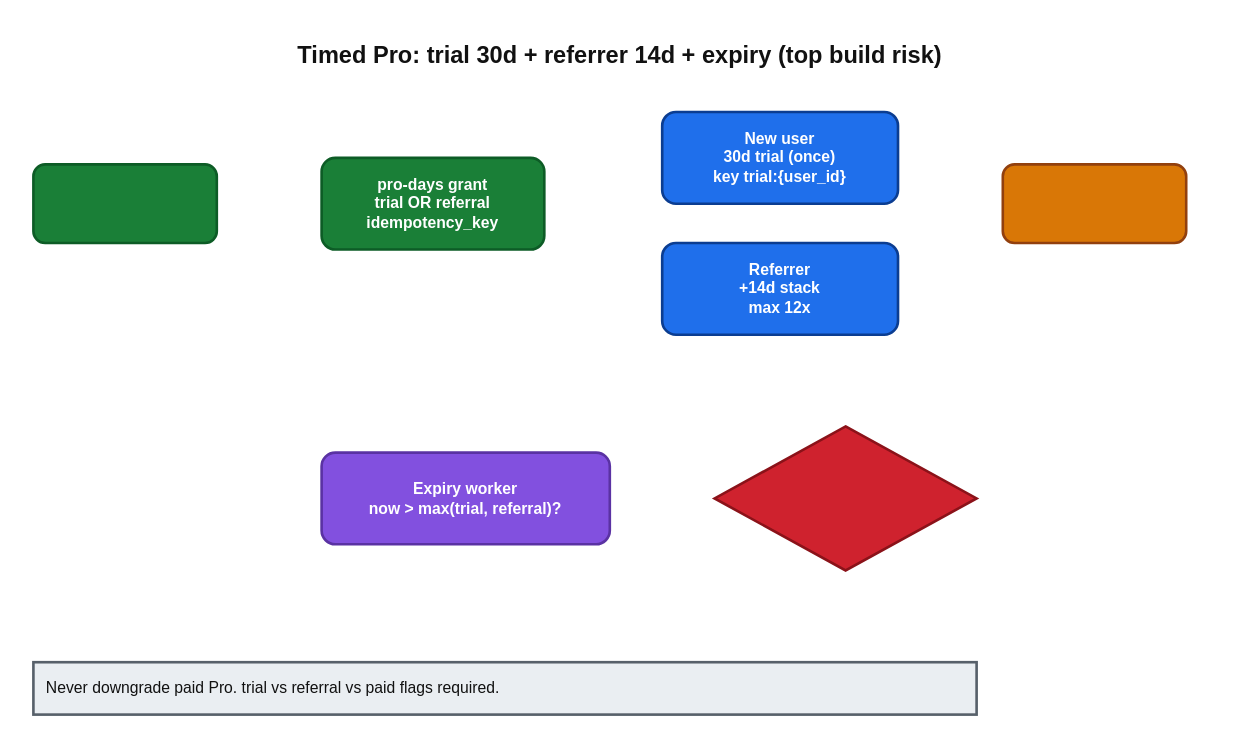
Some shapes in this 1260 by 738 pixel diagram are drawn without their labels. The shapes that lost their labels are listed below. From the top down, each one's centre as x and y in pixels, then its label:
At (124,203): "email_verified".
At (1094,203): "Lago sync am_pro".
At (845,497): "paid? YES keep Pro NO revert free".
